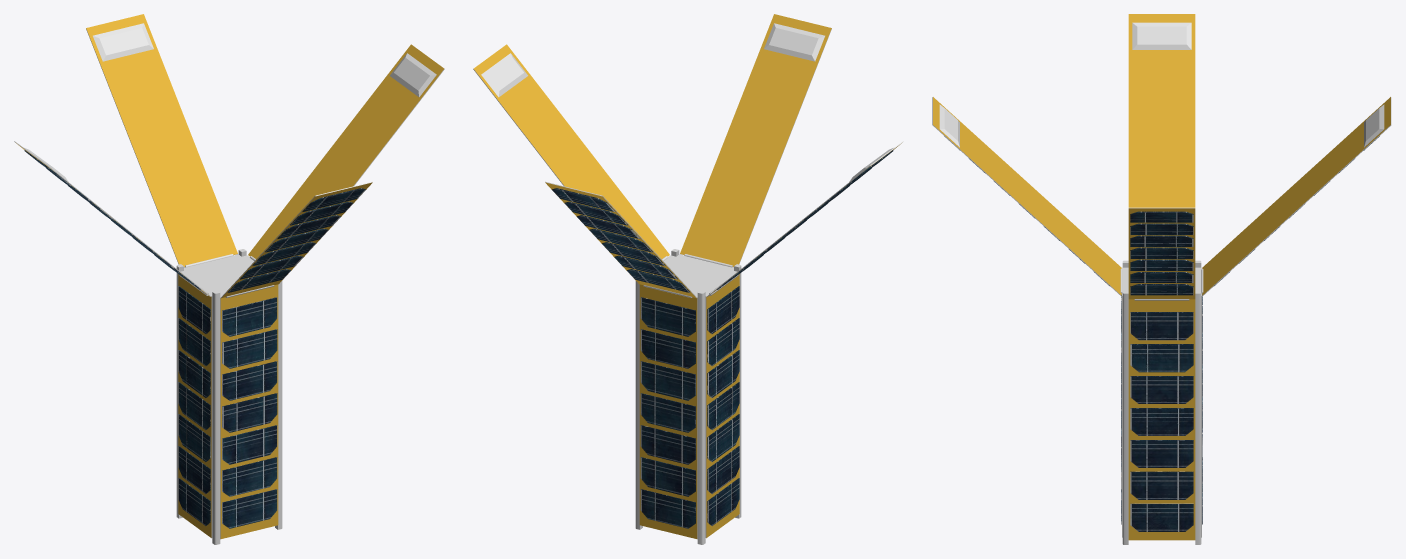
Rendered from cube-satelite.glb.
The picture shows the model from 3 angles, left to right: view 1: azimuth 30°, elevation 25°; view 2: azimuth 150°, elevation 25°; view 3: azimuth 270°, elevation 25°; orthographic projection.
Parts seen in each view (by area): view 1: CubeSat, Flap1, Flap4, Flap3, Flap2; view 2: CubeSat, Flap3, Flap4, Flap1, Flap2; view 3: CubeSat, Flap2, Flap4, Flap1, Flap3.
Boxes of the visible parts, box(x1,y1,x2,y2) form: CubeSat: box(176, 249, 282, 544); Flap1: box(86, 14, 237, 267); Flap4: box(248, 44, 444, 260); Flap3: box(221, 181, 372, 298); Flap2: box(14, 141, 210, 296); CubeSat: box(635, 249, 741, 544); Flap3: box(680, 14, 831, 267); Flap4: box(473, 44, 669, 260); Flap1: box(545, 181, 696, 298); Flap2: box(707, 141, 903, 296); CubeSat: box(1121, 260, 1202, 544); Flap2: box(1128, 14, 1195, 207); Flap4: box(1128, 207, 1195, 300); Flap1: box(1201, 97, 1391, 295); Flap3: box(932, 97, 1122, 295).
Size of the model in its own units: 0.5855 by 0.5878 by 0.5855.
3 materials, 1 textured.
